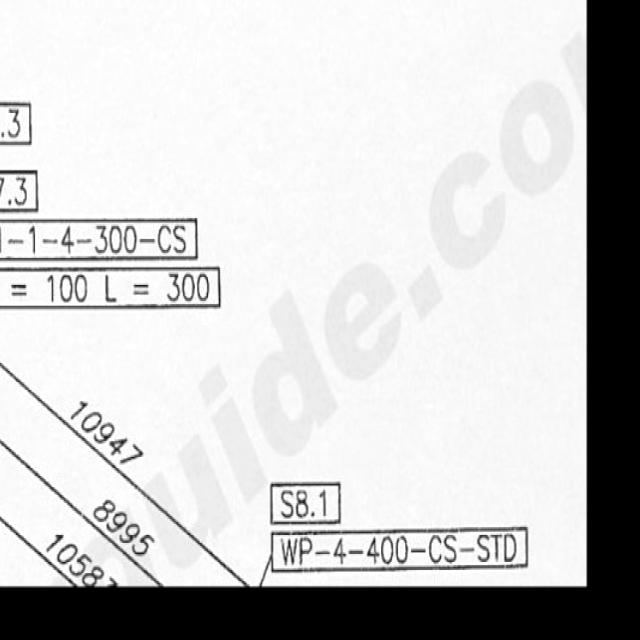Item number: (269, 478, 343, 526), (1, 166, 40, 218), (1, 98, 35, 151)
Measrement: (1, 431, 170, 583)
